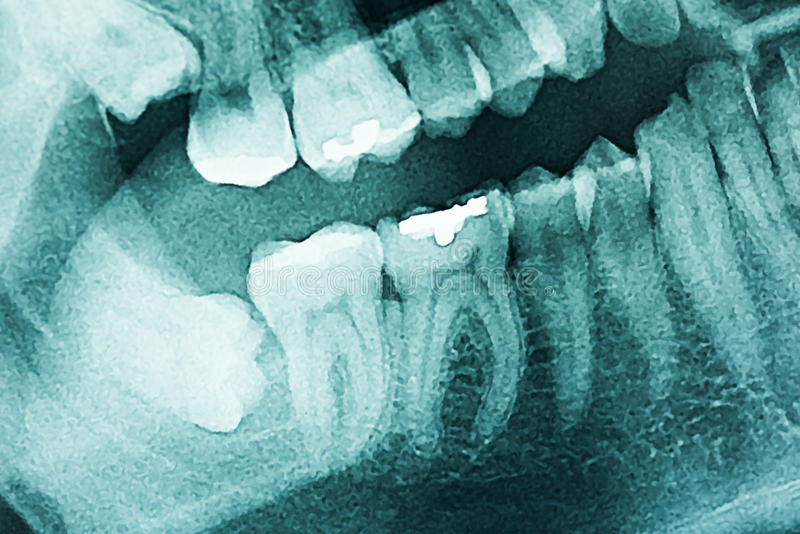canine: (620, 92, 770, 400)
incisor: (685, 55, 800, 302)
molar: (64, 231, 266, 468), (365, 180, 534, 440), (239, 225, 392, 454), (266, 2, 424, 177), (46, 1, 217, 128), (185, 84, 304, 203)
premolar: (563, 131, 685, 413), (498, 158, 606, 431), (393, 1, 499, 136), (444, 1, 548, 123)
